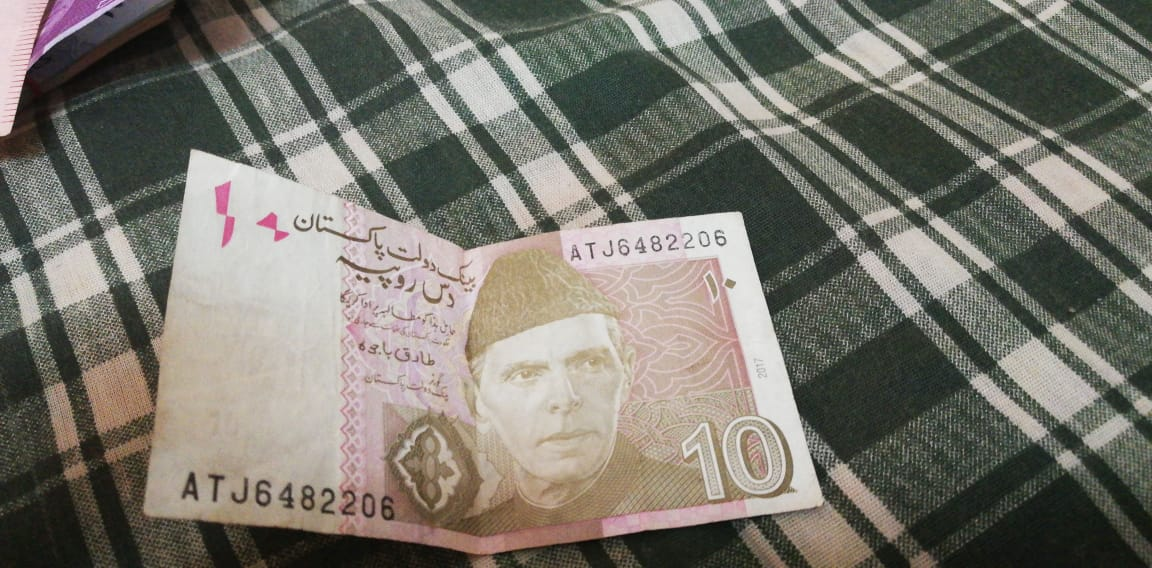10 rupee: (124, 143, 827, 549)
